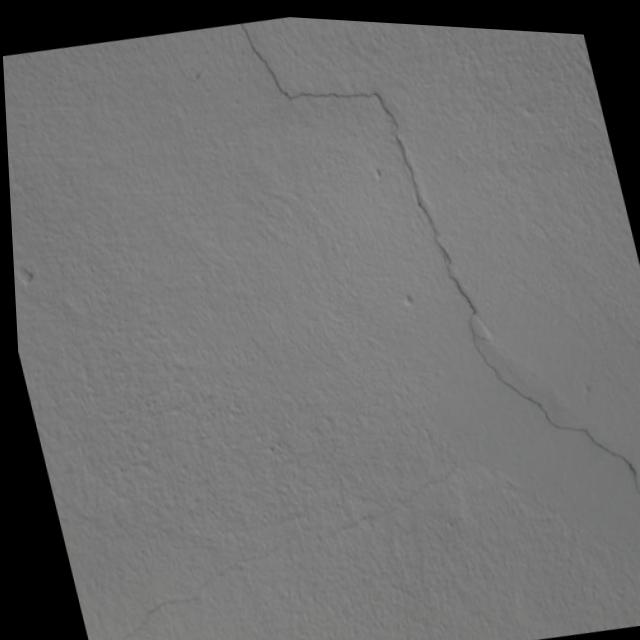Crack: (234, 11, 640, 640)
